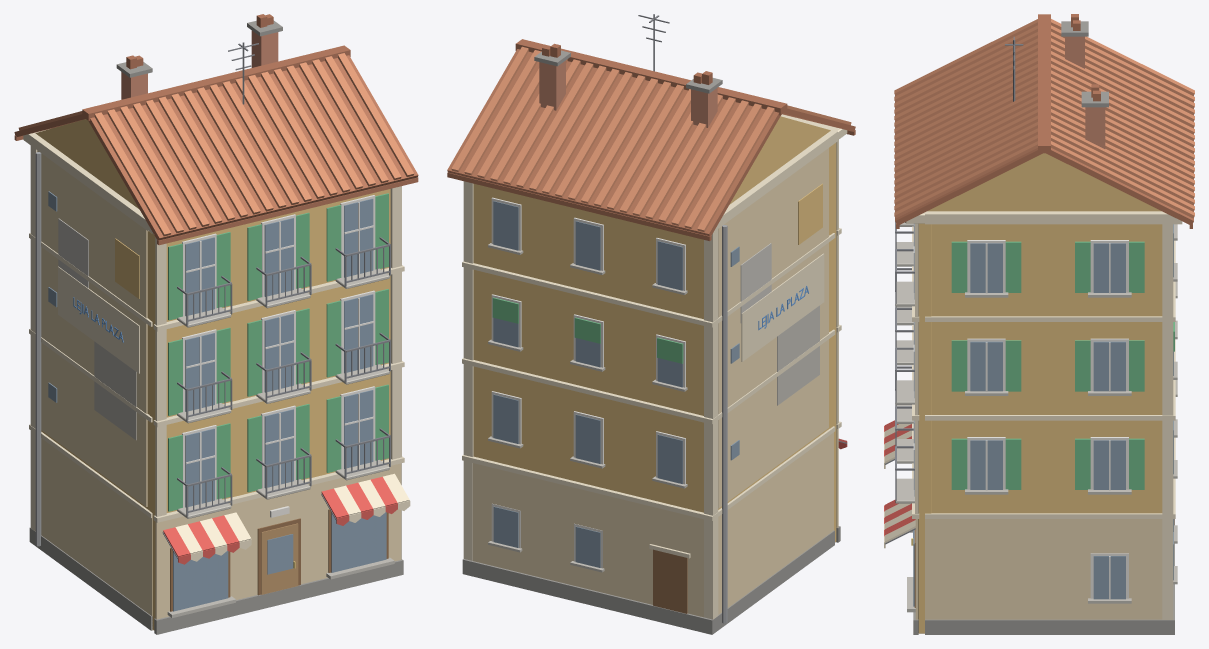
File: env_plaza_building_01.glb
3 renders of one model, left to right at view 1: azimuth 30°, elevation 25°; view 2: azimuth 150°, elevation 25°; view 3: azimuth 270°, elevation 25°, orthographic. The views are drawn at different scales.
Visible parts, largest first — view 1: env_plaza_building_01_body; view 2: env_plaza_building_01_body; view 3: env_plaza_building_01_body.
Boxes of the visible parts, x1,y1,x2,y2 form: env_plaza_building_01_body: (14, 14, 418, 634); env_plaza_building_01_body: (447, 14, 855, 634); env_plaza_building_01_body: (884, 14, 1194, 634).
Size of the model in its own units: 8.6 by 16.42 by 8.58.
